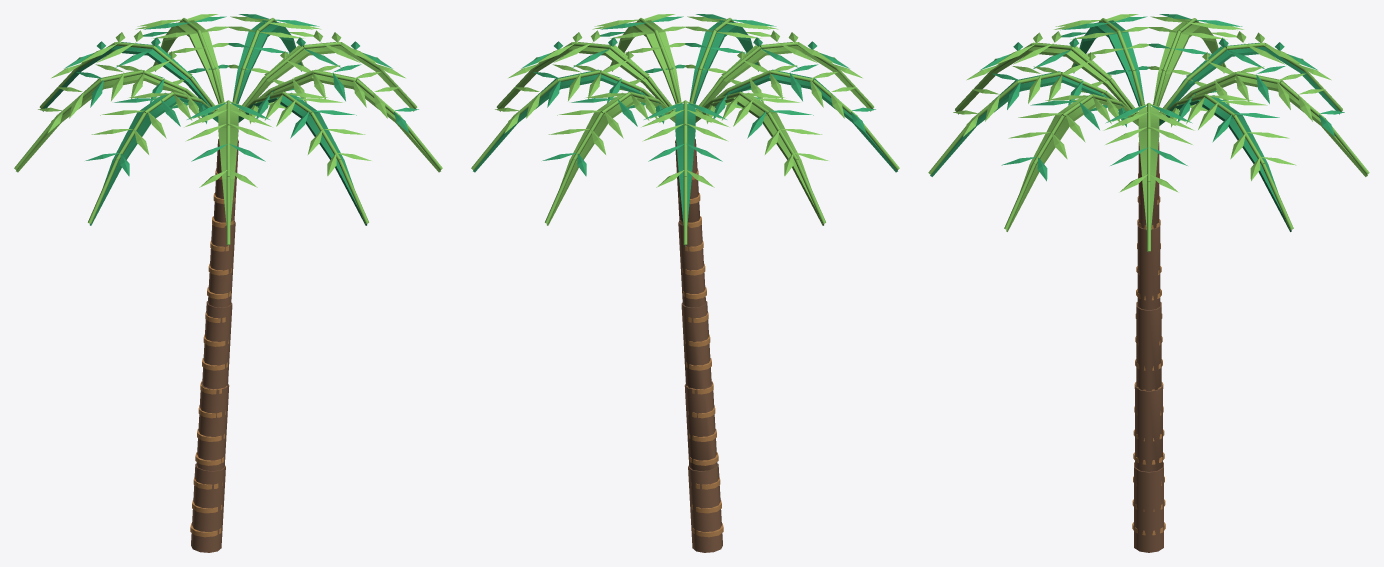
Rendered from tree-palm.glb.
3 renders of one model, left to right at view 1: azimuth 30°, elevation 25°; view 2: azimuth 150°, elevation 25°; view 3: azimuth 270°, elevation 25°, orthographic. The views are drawn at different scales.
Visible parts, largest first — view 1: arched palm frond, arched palm frond.001, palm stem, palm trunk growth ring; view 2: arched palm frond, arched palm frond.001, palm stem, palm trunk growth ring; view 3: arched palm frond, palm stem, arched palm frond.001, palm trunk growth ring.
Part boxes in pixels (x1,y1,x2,y2): arched palm frond: [14, 14, 442, 246]; arched palm frond.001: [42, 14, 418, 225]; palm stem: [191, 139, 238, 552]; palm trunk growth ring: [190, 169, 234, 537]; arched palm frond: [471, 14, 899, 244]; arched palm frond.001: [473, 14, 897, 246]; palm stem: [675, 139, 722, 552]; palm trunk growth ring: [679, 169, 723, 537]; arched palm frond: [928, 14, 1369, 251]; palm stem: [1134, 142, 1163, 552]; arched palm frond.001: [930, 14, 1344, 231]; palm trunk growth ring: [1132, 173, 1165, 535].
Bounding box in the file's own units: 2.05 × 2.56 × 2.08.
